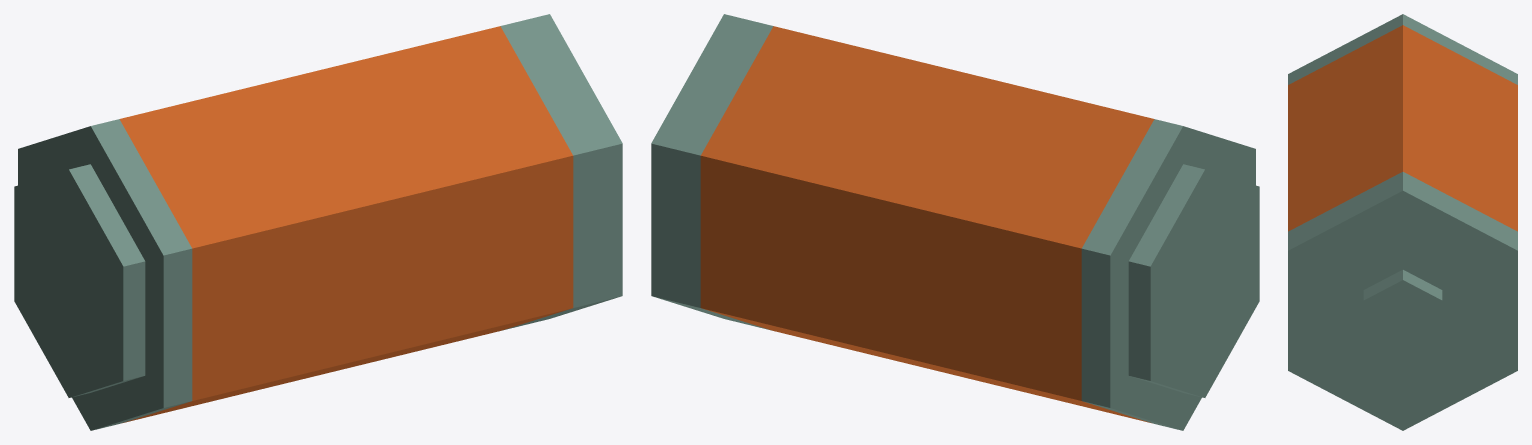
The model's file is battery.fbx.
3 views of the same model, side by side, from view 1: azimuth 30°, elevation 25°; view 2: azimuth 150°, elevation 25°; view 3: azimuth 270°, elevation 25° (orthographic). The views are drawn at different scales.
Visible parts, largest first — view 1: battery; view 2: battery; view 3: battery.
Part boxes in pixels (x1=…): battery: x1=14, y1=14, x2=622, y2=430; battery: x1=651, y1=14, x2=1259, y2=430; battery: x1=1288, y1=14, x2=1517, y2=430.
Bounding box in the file's own units: 76.5 × 43.87 × 37.99.
